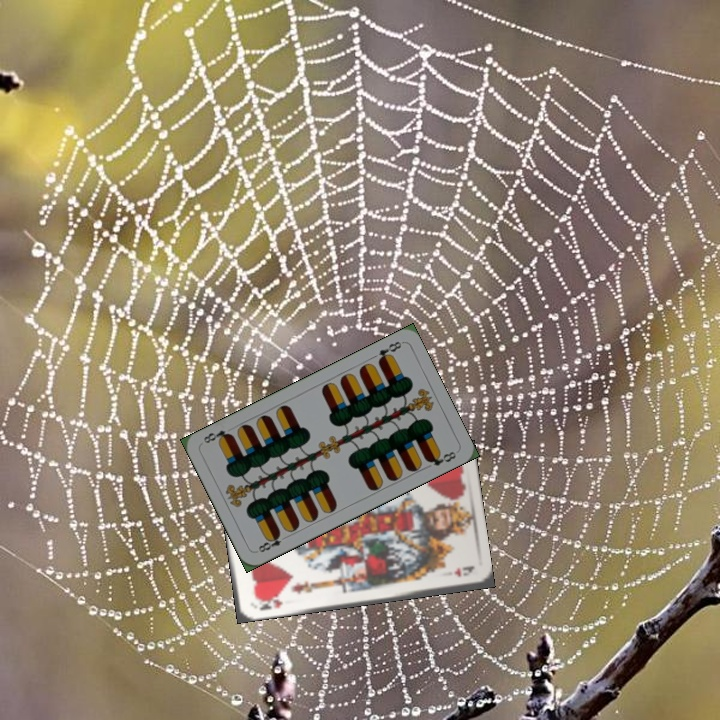E8: (253, 529, 291, 555), (374, 337, 404, 366)
HK: (251, 593, 285, 613)
